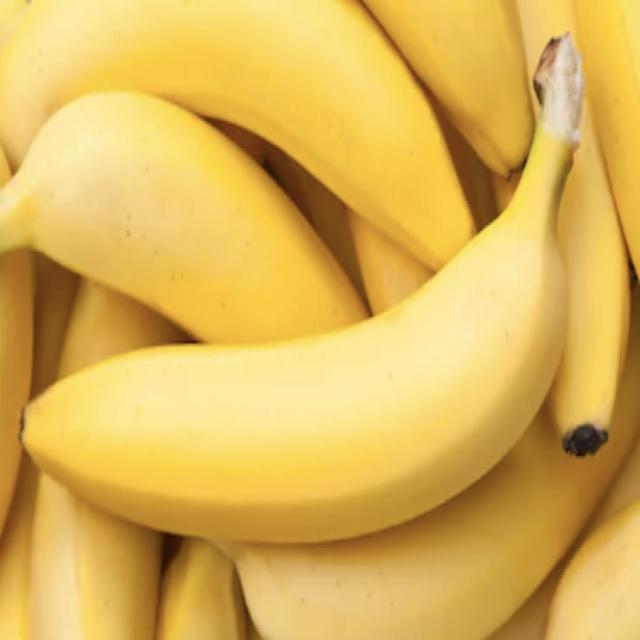Banana: (0, 6, 635, 640)
